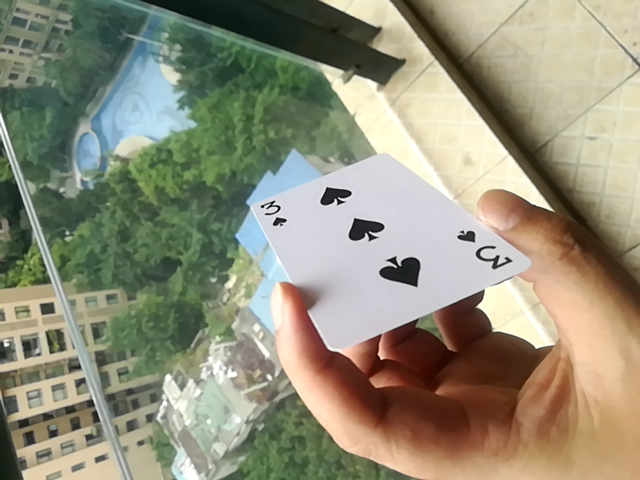ht 3: (233, 151, 531, 352)
